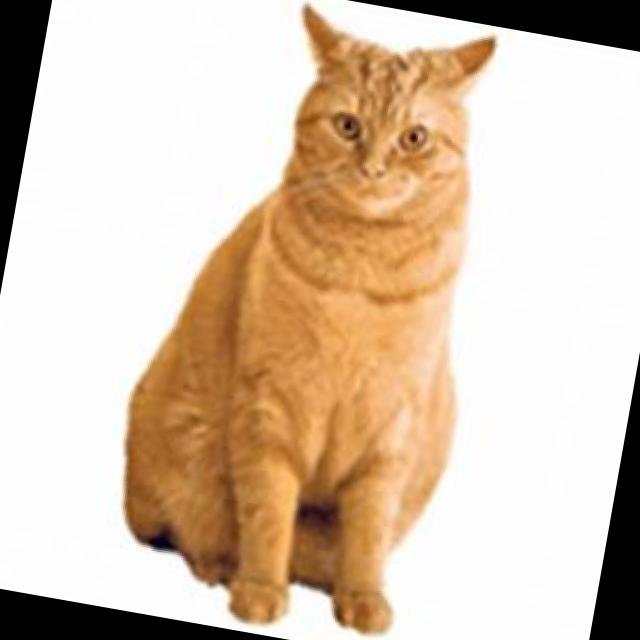cat: (94, 0, 526, 640)
